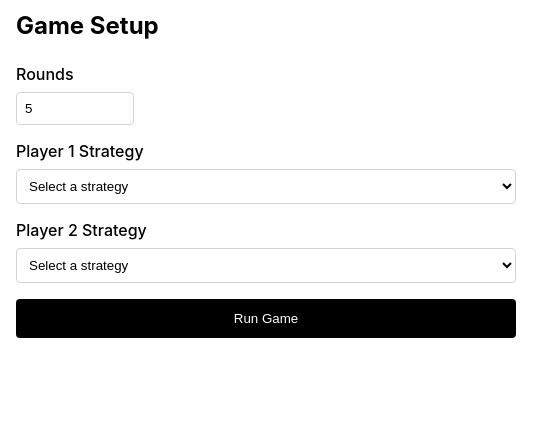
Test case: GameSetup › shows error when trying to start without selecting both strategies
This screenshot has width=533, height=425.
Click the button "Run Game": coordinates (266, 318) [16,299,516,338]
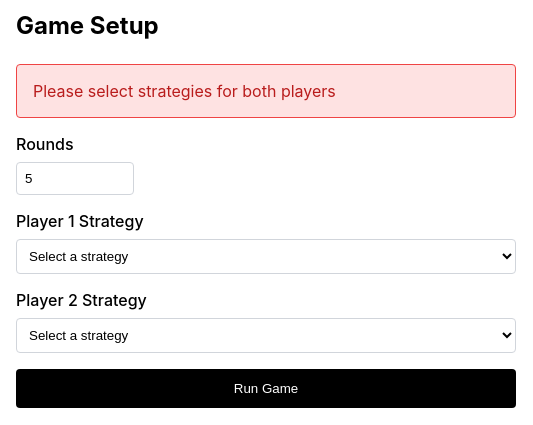
Expected: the text "Please select strategies for both players" is shown, [16,64,516,118]
